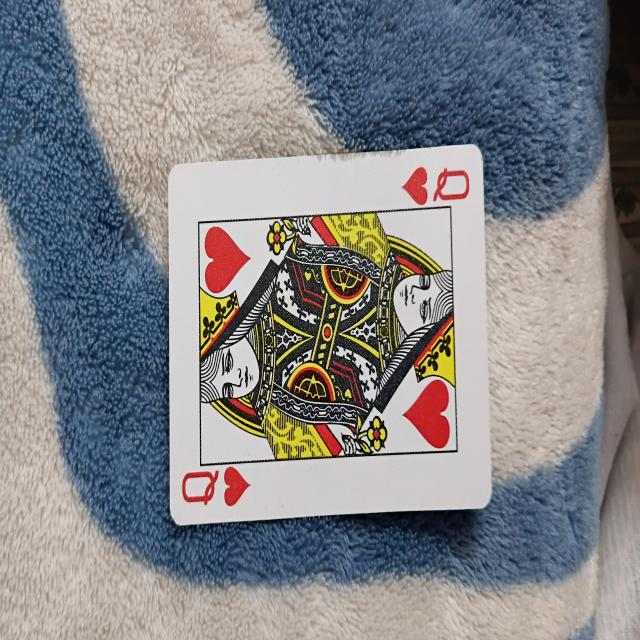QH: (168, 140, 492, 535)
